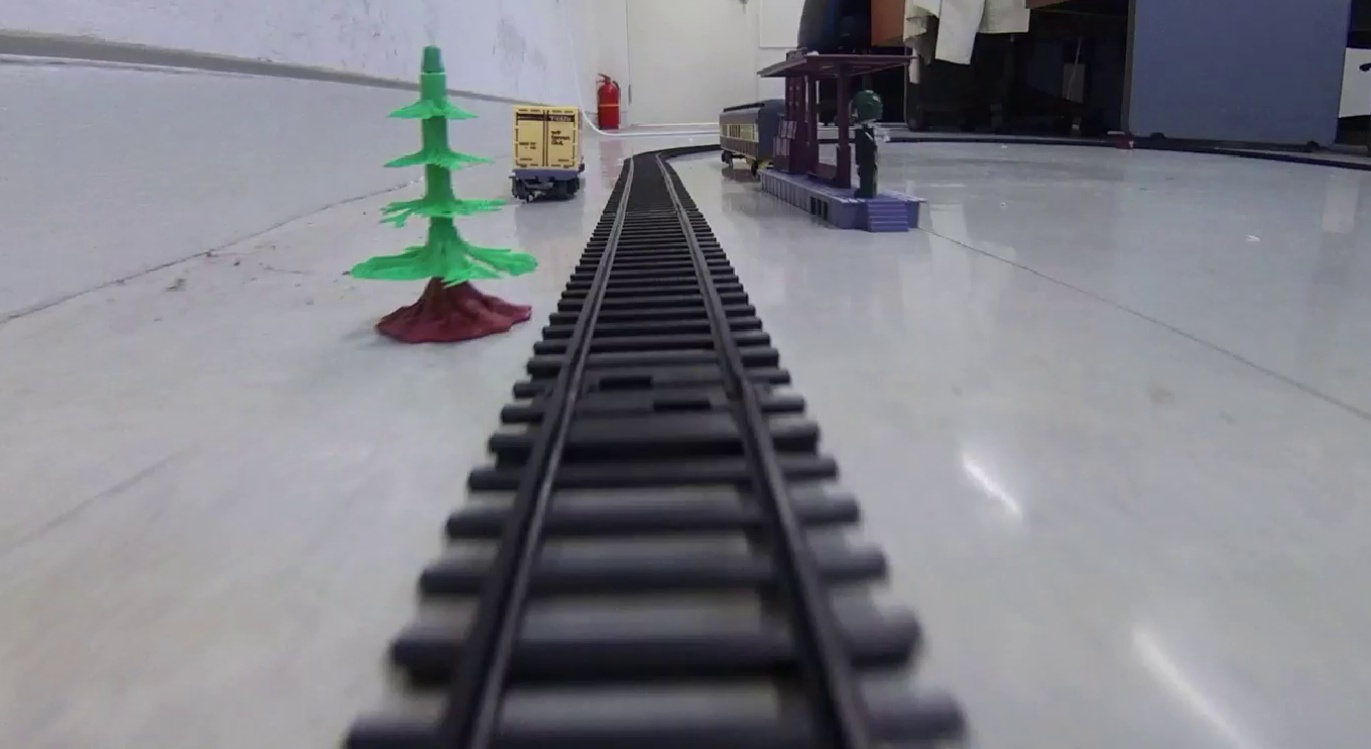people: (845, 89, 889, 199)
tree: (345, 43, 543, 343)
